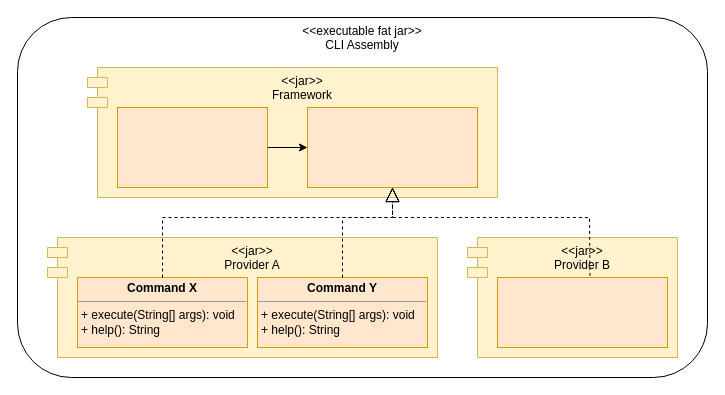
This 725x395 diagram has some shape labels left out. The shapes that lost their labels are listed below. From the top down, each one's centre as x and y in pixels, then its label:
pixel 192 147: Main Class + main(String[] args): void
pixel 392 147: <<Interface>> Service Interface + execute(String[] args): void + help(): String
pixel 582 312: Command Z + execute(String[] args): void + help(): String
